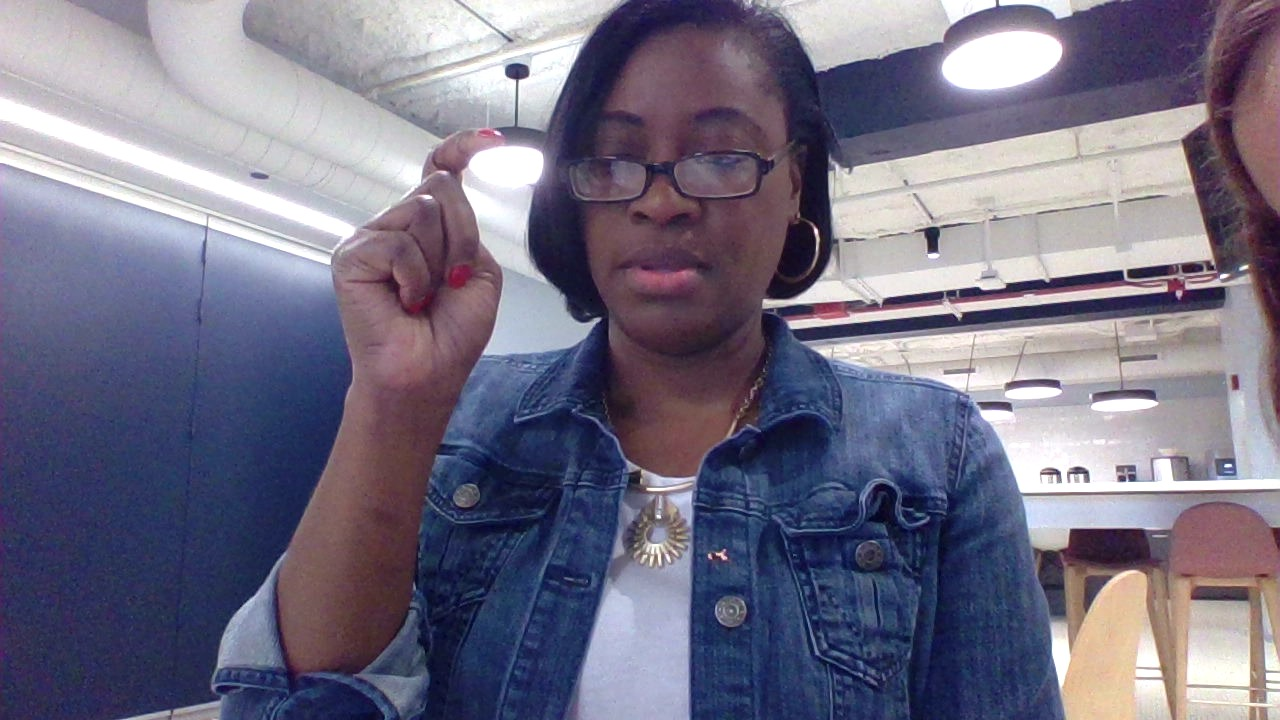x: (303, 107, 536, 434)
